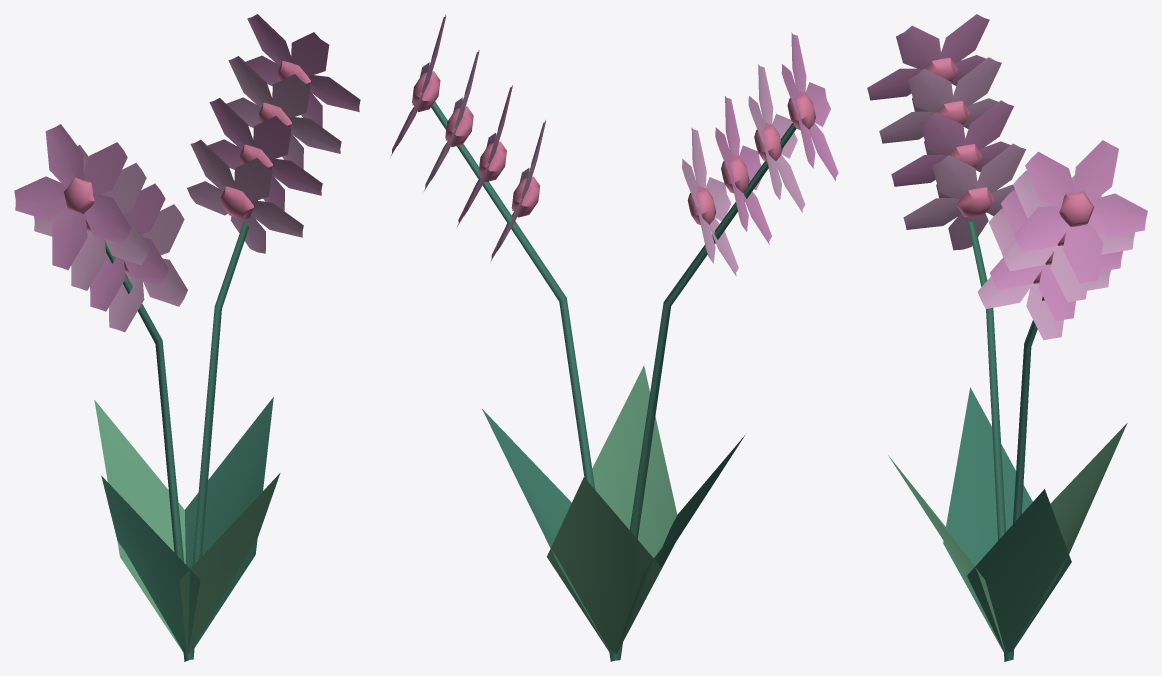
The model's file is orchid.glb.
3 views of the same model, side by side, from view 1: azimuth 30°, elevation 25°; view 2: azimuth 150°, elevation 25°; view 3: azimuth 270°, elevation 25° (orthographic). The views are drawn at different scales.
Visible parts, largest first — view 1: orchid; view 2: orchid; view 3: orchid.
Part boxes in pixels (left/top/right/bottom): orchid: left=14, top=14, right=360, bottom=661; orchid: left=390, top=14, right=838, bottom=661; orchid: left=867, top=14, right=1147, bottom=661.
Size of what is drawn, in the model's own units: 0.3228 by 0.5 by 0.2205.
